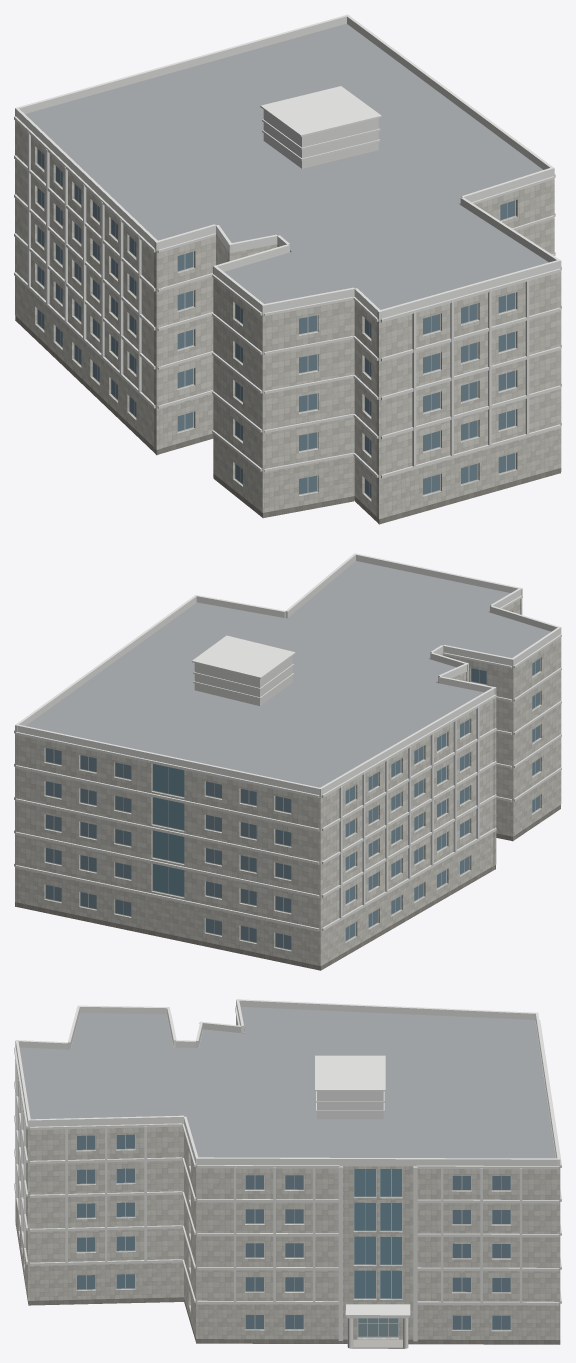
3 renders of one model, top to bottom at view 1: azimuth 30°, elevation 25°; view 2: azimuth 150°, elevation 25°; view 3: azimuth 270°, elevation 25°, orthographic. The views are drawn at different scales.
Visible parts, largest first — view 1: sangchun__roof, sangchun__brick, sangchun__stone, sangchun__cap, sangchun__trim, sangchun__glass, sangchun__fin, sangchun__core, sangchun__frame, sangchun__plinth, sangchun__foundation; view 2: sangchun__roof, sangchun__brick, sangchun__stone, sangchun__cap, sangchun__glass, sangchun__trim, sangchun__frame, sangchun__fin, sangchun__curtainglass, sangchun__core, sangchun__plinth, sangchun__foundation; view 3: sangchun__roof, sangchun__brick, sangchun__stone, sangchun__cap, sangchun__trim, sangchun__glass, sangchun__fin, sangchun__curtainglass, sangchun__frame, sangchun__plinth, sangchun__core, sangchun__foundation (+2 smaller).
Part boxes in pixels (bbox=[...]): sangchun__roof: bbox=[25, 23, 548, 309]; sangchun__brick: bbox=[15, 120, 561, 475]; sangchun__stone: bbox=[15, 276, 561, 519]; sangchun__cap: bbox=[15, 14, 561, 320]; sangchun__trim: bbox=[14, 116, 561, 478]; sangchun__glass: bbox=[37, 149, 515, 497]; sangchun__fin: bbox=[27, 132, 529, 466]; sangchun__core: bbox=[263, 110, 378, 168]; sangchun__frame: bbox=[37, 148, 515, 498]; sangchun__plinth: bbox=[15, 316, 561, 522]; sangchun__foundation: bbox=[15, 320, 560, 524]; sangchun__roof: bbox=[26, 561, 550, 787]; sangchun__brick: bbox=[15, 598, 561, 929]; sangchun__stone: bbox=[15, 770, 561, 966]; sangchun__cap: bbox=[15, 553, 561, 796]; sangchun__glass: bbox=[46, 658, 539, 949]; sangchun__trim: bbox=[14, 595, 561, 931]; sangchun__frame: bbox=[45, 658, 540, 950]; sangchun__fin: bbox=[339, 706, 479, 918]; sangchun__curtainglass: bbox=[153, 764, 184, 896]; sangchun__core: bbox=[194, 656, 292, 705]; sangchun__plinth: bbox=[15, 805, 560, 969]; sangchun__foundation: bbox=[15, 808, 560, 970]; sangchun__roof: bbox=[19, 1007, 555, 1158]; sangchun__brick: bbox=[15, 1014, 560, 1302]; sangchun__stone: bbox=[15, 1166, 560, 1340]; sangchun__cap: bbox=[15, 999, 560, 1316]; sangchun__trim: bbox=[14, 1006, 561, 1305]; sangchun__glass: bbox=[77, 1134, 510, 1329]; sangchun__fin: bbox=[15, 1063, 522, 1341]; sangchun__curtainglass: bbox=[354, 1169, 401, 1298]; sangchun__frame: bbox=[76, 1134, 511, 1337]; sangchun__plinth: bbox=[16, 1224, 560, 1343]; sangchun__core: bbox=[317, 1091, 383, 1119]; sangchun__foundation: bbox=[15, 1222, 560, 1344].
Size of the model in its own units: 38.99 by 22.22 by 52.67.
17 materials, 5 textured.
